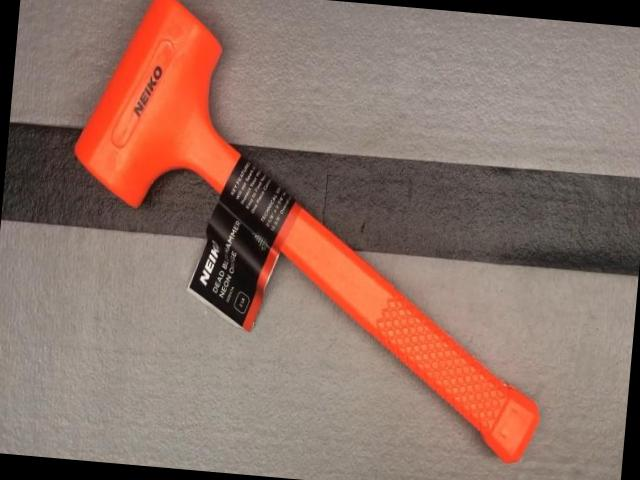hammer: (47, 0, 575, 465)
